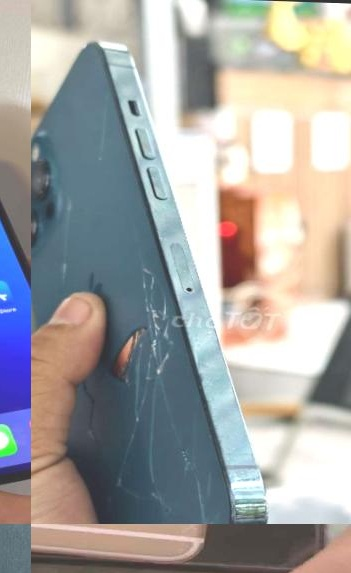physical_damage: (31, 82, 230, 524)
scratch: (217, 457, 279, 524), (165, 524, 246, 573), (0, 524, 9, 573)
